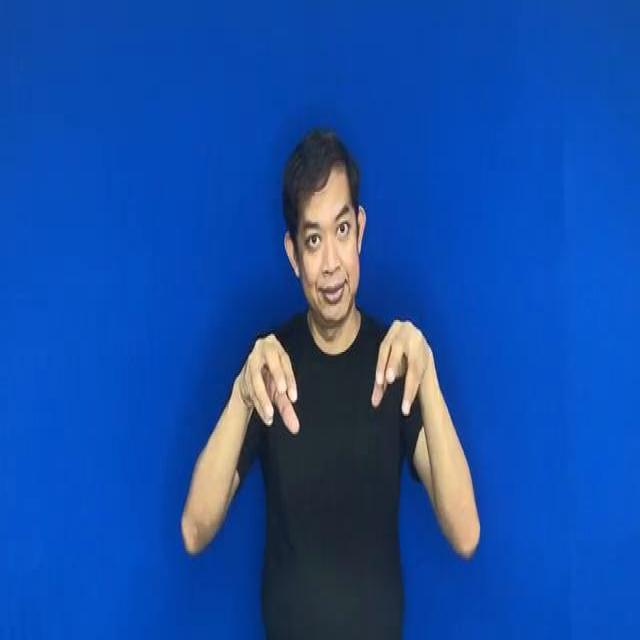egg: (237, 305, 432, 436)
